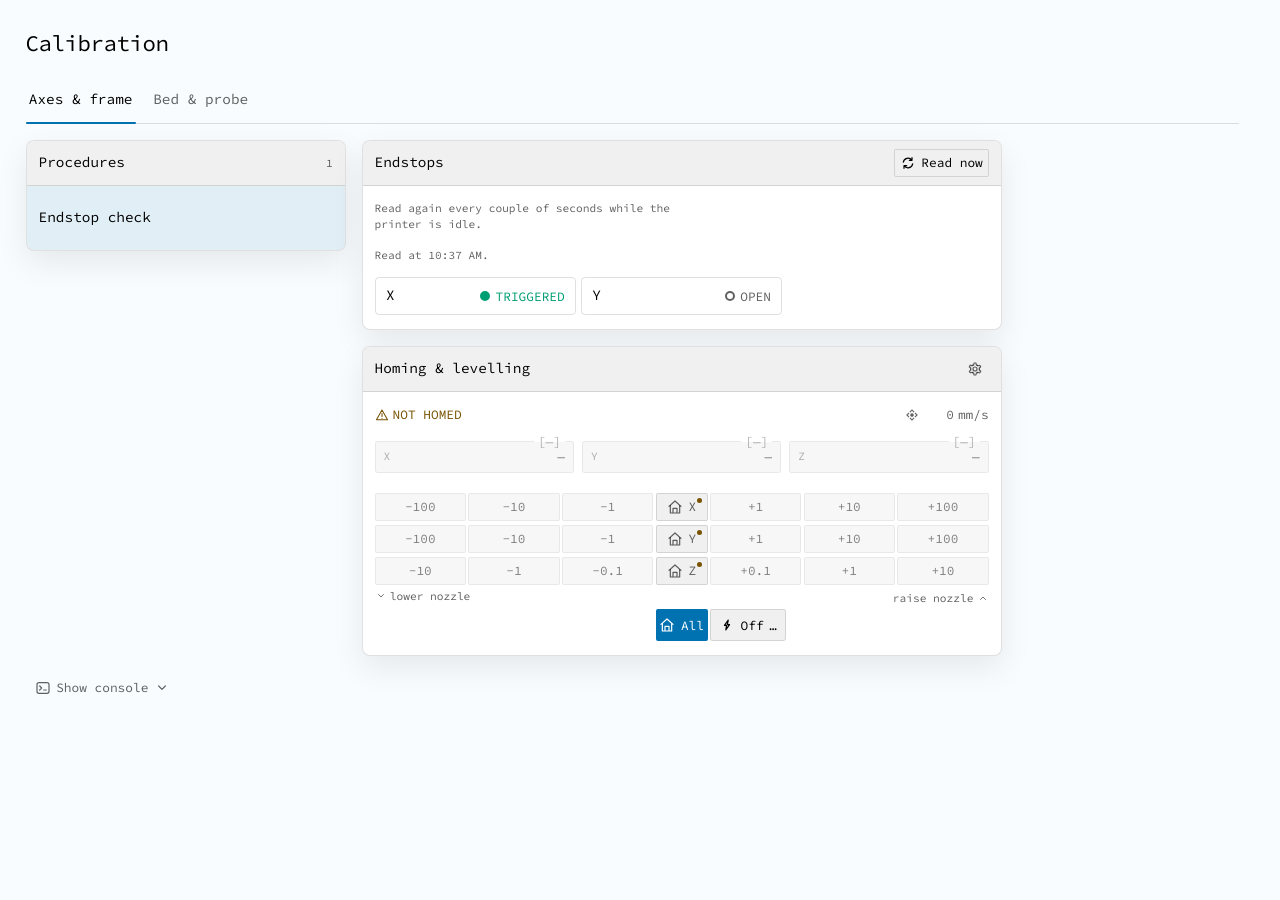
Test: Calibration view › hides the mesh panel on a probe-only printer, which still has a bed stage
Click the button with class "tab-select" showing "Bed & probe" at (201, 100), box [150,78,251,123]
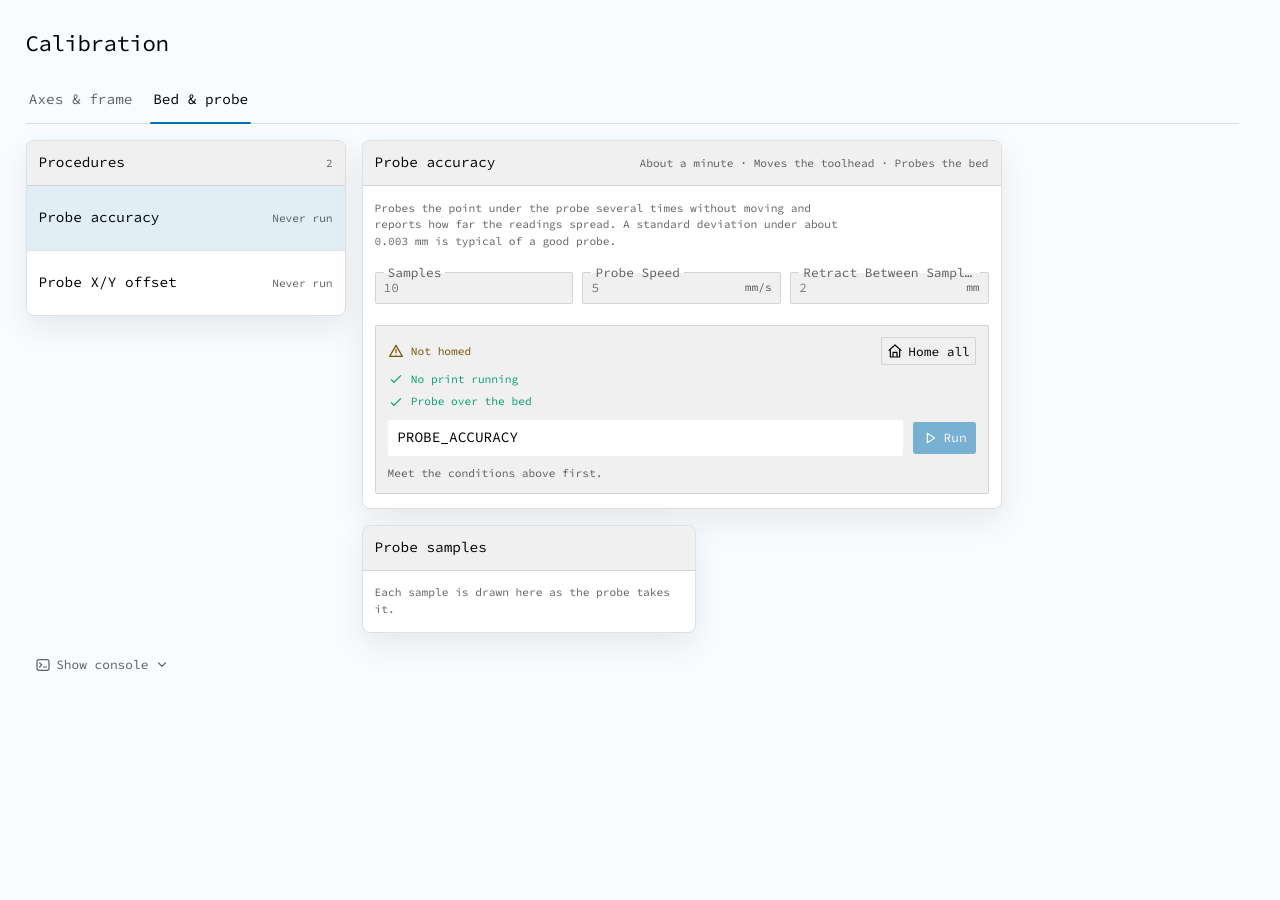
Result: the text "Probe accuracy" is shown at [39,207,160,229]
